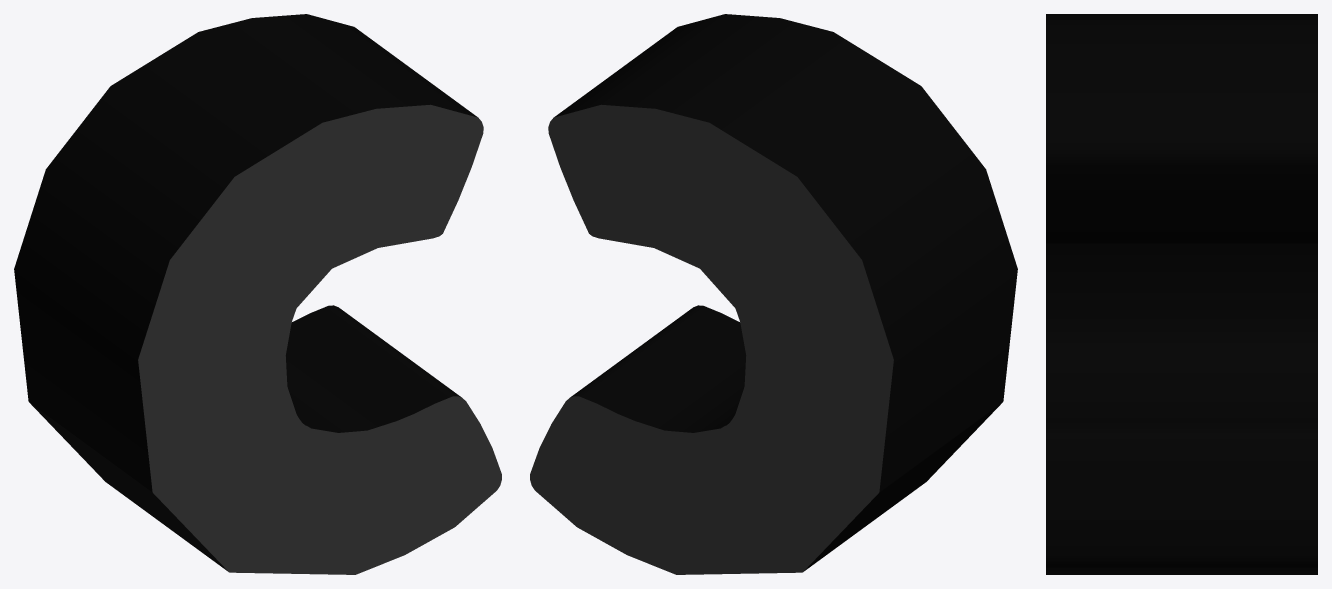
The picture shows the model from 3 angles, left to right: view 1: azimuth 30°, elevation 25°; view 2: azimuth 150°, elevation 25°; view 3: azimuth 270°, elevation 25°; orthographic projection. The views are drawn at different scales.
Parts seen in each view (by area): view 1: c_Zyzol_Black; view 2: c_Zyzol_Black; view 3: c_Zyzol_Black.
Boxes of the visible parts, x1=… form: c_Zyzol_Black: x1=14, y1=14, x2=501, y2=574; c_Zyzol_Black: x1=530, y1=14, x2=1017, y2=574; c_Zyzol_Black: x1=1046, y1=14, x2=1317, y2=574.
Size of what is drawn, in the model's own units: 0.0762 by 0.0923 by 0.045.
Materials: 2 (2 with a texture image).
